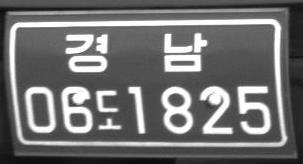0: (23, 84, 57, 135)
1: (124, 85, 150, 135)
2: (199, 85, 234, 135)
5: (236, 84, 272, 136)
6: (60, 85, 94, 135)
8: (160, 84, 194, 135)
경남_D: (64, 31, 208, 74)
도: (95, 89, 122, 130)
